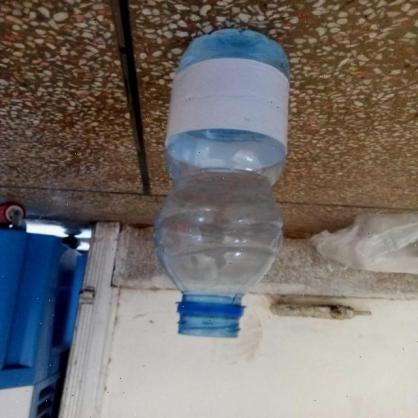bottle: (146, 26, 293, 345)
label: (156, 52, 291, 150)
